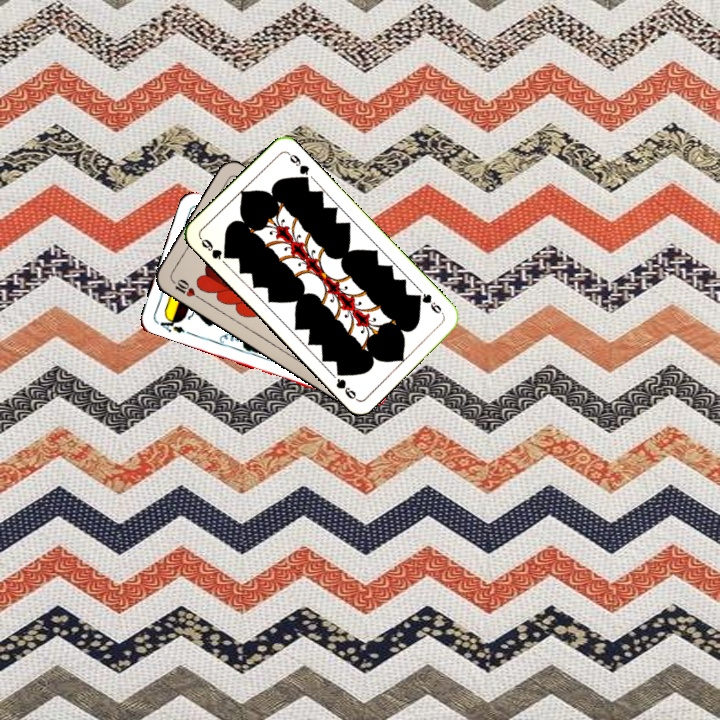EA: (153, 312, 187, 336)
G9: (196, 234, 233, 262), (412, 289, 446, 317)
H10: (167, 275, 204, 302)
